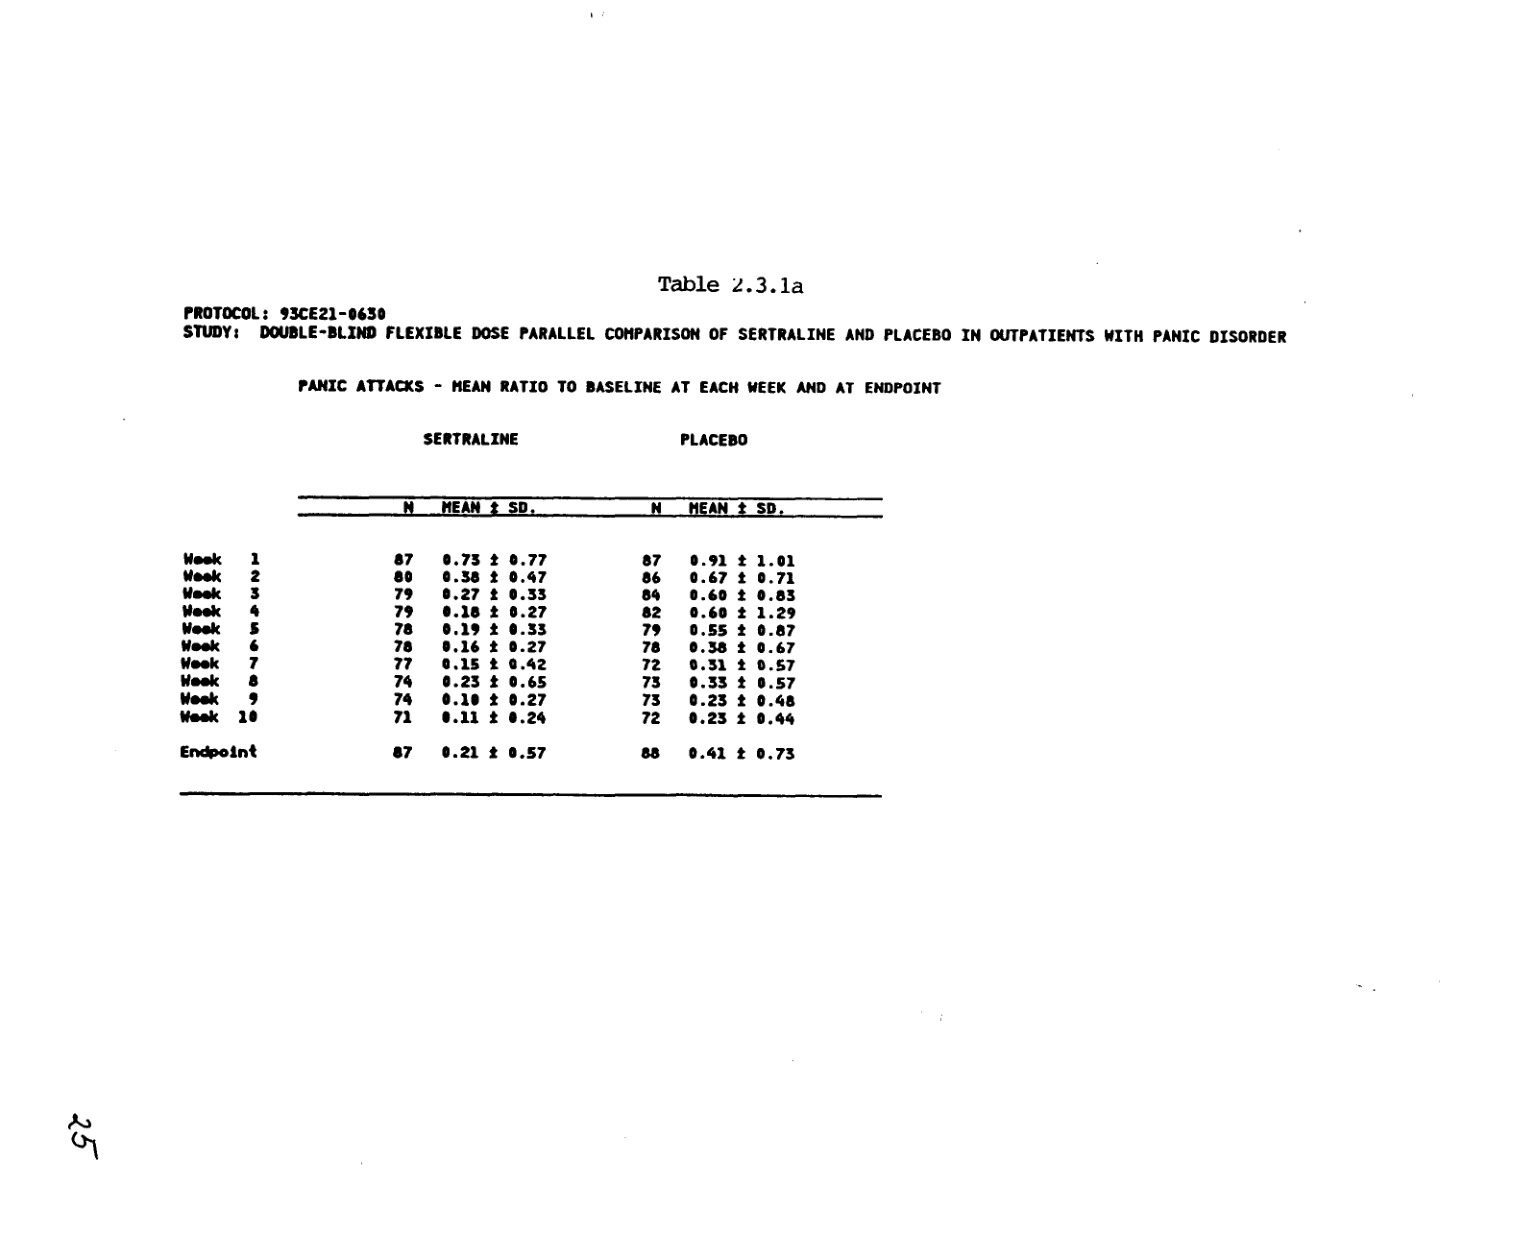partial_lined_merged_cells: (177, 426, 882, 766)
